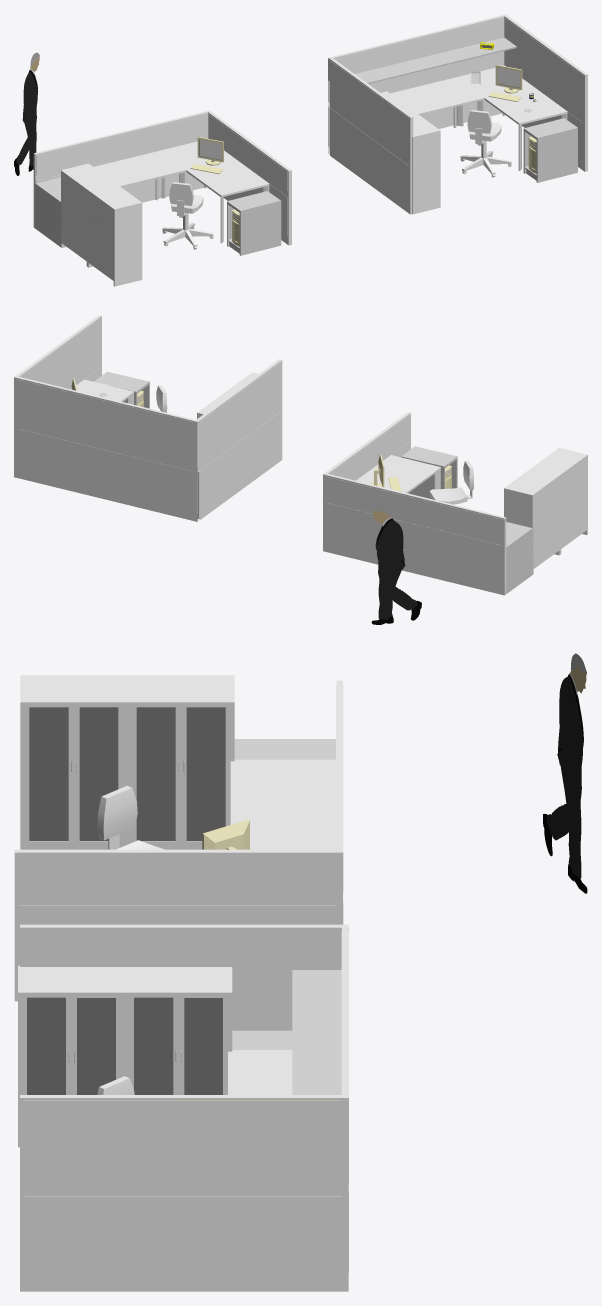
The model's file is office-desk.fbx.
The picture shows the model from 3 angles, top to bottom: view 1: azimuth 30°, elevation 25°; view 2: azimuth 150°, elevation 25°; view 3: azimuth 270°, elevation 25°; orthographic projection. The views are drawn at different scales.
Parts seen in each view (by area): view 1: modul2_001, modul1_001, modul2#1_001, dlp1_005, Component#1_001, Component#1_002, dlp1_007, dlp1_001, pc_001, pc_003, half#2_007, half#2_003 (+6 smaller); view 2: modul2_001, modul1_001, modul2#1_001, dlp1_007, dlp1_005, 2D_Man_Suit_001, Component#1_002, pc_003, half_003, half#2_005, half#1_003, Component#1_001 (+2 smaller); view 3: modul2_001, modul1_001, modul2#1_001, dlp1_005, dlp1_007, dlp1_003, dlp1_001, Component#1_002, Component#3_001, 2D_Man_Suit_001, pc_003, Component#1_001 (+3 smaller).
Boxes of the visible parts, left/top/right/bottom form: modul2_001: left=331, top=14, right=587, bottom=171; modul1_001: left=33, top=110, right=291, bottom=245; modul2#1_001: left=328, top=57, right=413, bottom=214; dlp1_005: left=87, top=183, right=142, bottom=286; Component#1_001: left=390, top=65, right=567, bottom=170; Component#1_002: left=94, top=141, right=269, bottom=243; dlp1_007: left=61, top=163, right=114, bottom=266; dlp1_001: left=407, top=111, right=440, bottom=214; pc_001: left=460, top=64, right=522, bottom=177; pc_003: left=162, top=137, right=223, bottom=249; half#2_007: left=233, top=196, right=281, bottom=255; half#2_003: left=530, top=123, right=577, bottom=182; modul2_001: left=14, top=315, right=196, bottom=520; modul1_001: left=323, top=412, right=506, bottom=595; modul2#1_001: left=194, top=359, right=282, bottom=521; dlp1_007: left=504, top=468, right=560, bottom=573; dlp1_005: left=532, top=447, right=587, bottom=554; 2D_Man_Suit_001: left=371, top=504, right=421, bottom=624; Component#1_002: left=325, top=455, right=440, bottom=503; pc_003: left=370, top=454, right=473, bottom=504; half_003: left=506, top=522, right=533, bottom=583; half#2_005: left=401, top=451, right=450, bottom=498; half#1_003: left=506, top=534, right=519, bottom=593; Component#1_001: left=71, top=379, right=134, bottom=404; modul2_001: left=20, top=926, right=348, bottom=1291; modul1_001: left=14, top=680, right=343, bottom=1001; modul2#1_001: left=20, top=924, right=348, bottom=1030; dlp1_005: left=20, top=675, right=127, bottom=849; dlp1_007: left=127, top=675, right=234, bottom=849; dlp1_003: left=125, top=967, right=232, bottom=1094; dlp1_001: left=18, top=965, right=124, bottom=1147; Component#1_002: left=230, top=759, right=335, bottom=849; Component#3_001: left=292, top=970, right=341, bottom=1094; 2D_Man_Suit_001: left=543, top=653, right=587, bottom=893; pc_003: left=97, top=786, right=249, bottom=849; Component#1_001: left=228, top=1050, right=292, bottom=1094.
Size of the model in its own units: 7778 by 1829 by 4074.
